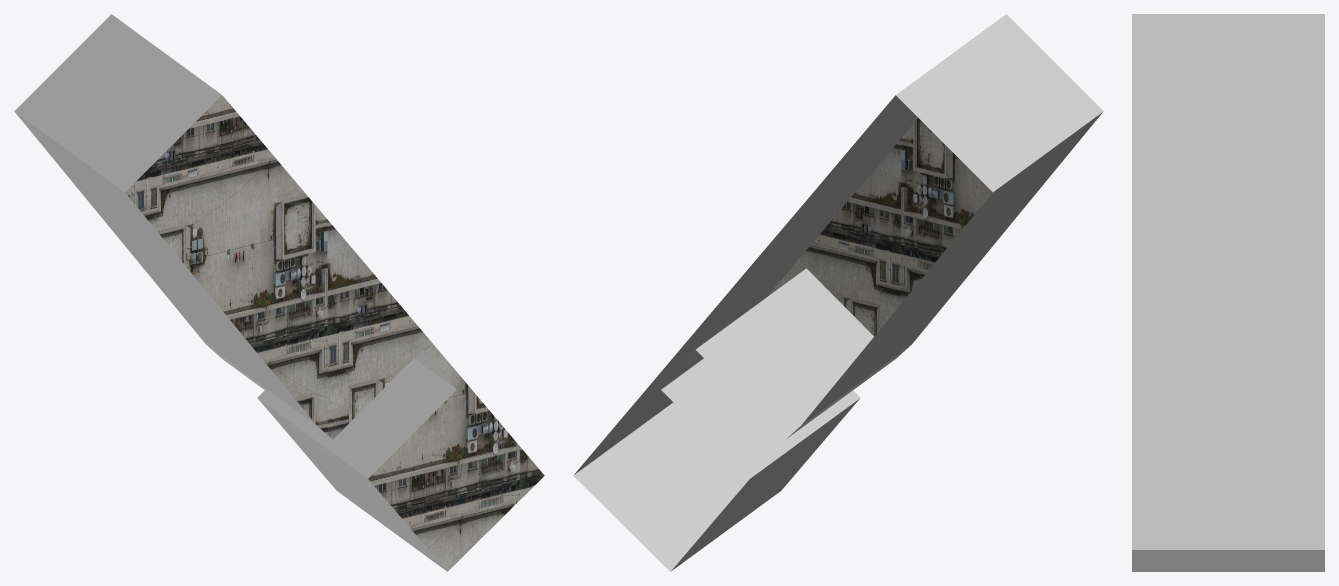
File: geospecific_1653.obj
3 views of the same model, side by side, from view 1: azimuth 30°, elevation 25°; view 2: azimuth 150°, elevation 25°; view 3: azimuth 270°, elevation 25° (orthographic). The views are drawn at different scales.
Parts seen in each view (by area): view 1: Building; view 2: Building; view 3: Building.
Boxes of the visible parts, left/top/right/bottom form: Building: left=14, top=14, right=544, bottom=571; Building: left=573, top=14, right=1103, bottom=571; Building: left=1132, top=14, right=1324, bottom=571.
Bounding box in the file's own units: 19.66 × 23.8 × 9.
